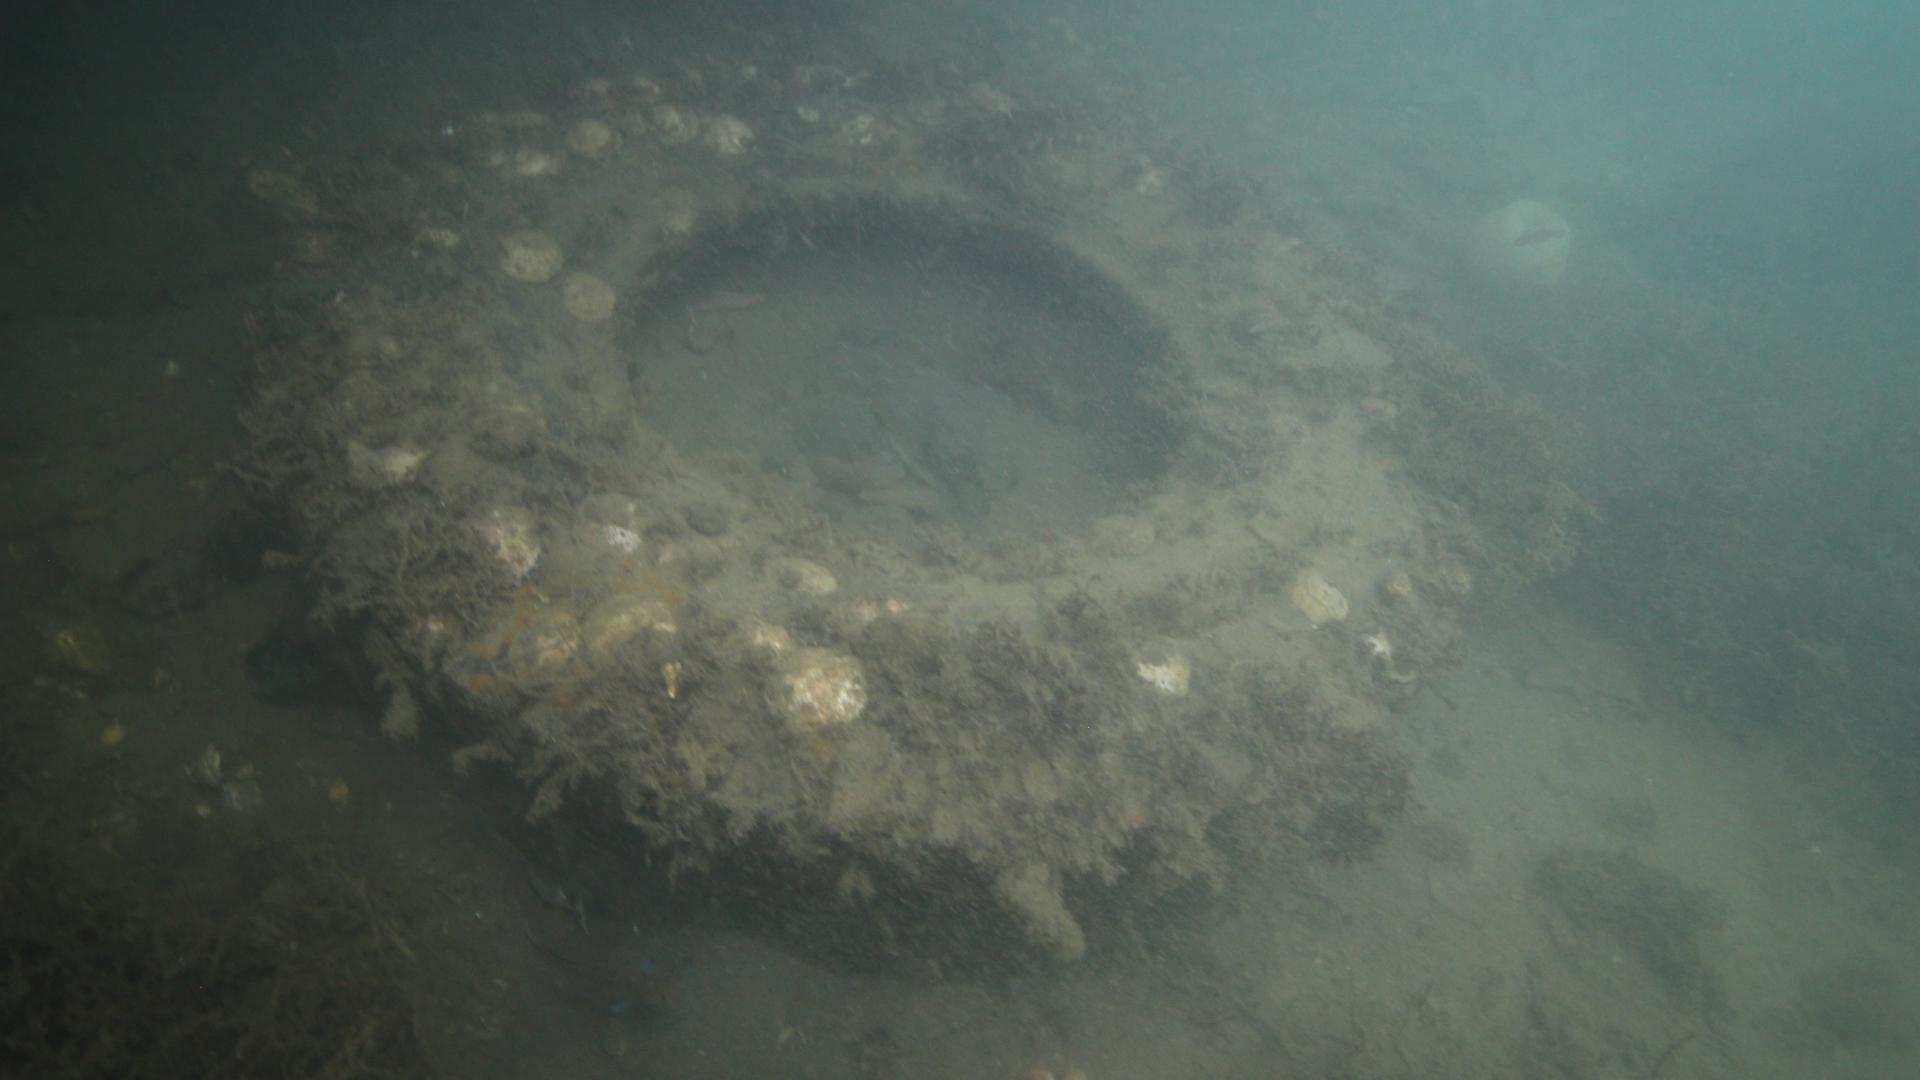tire: (256, 61, 1477, 972)
